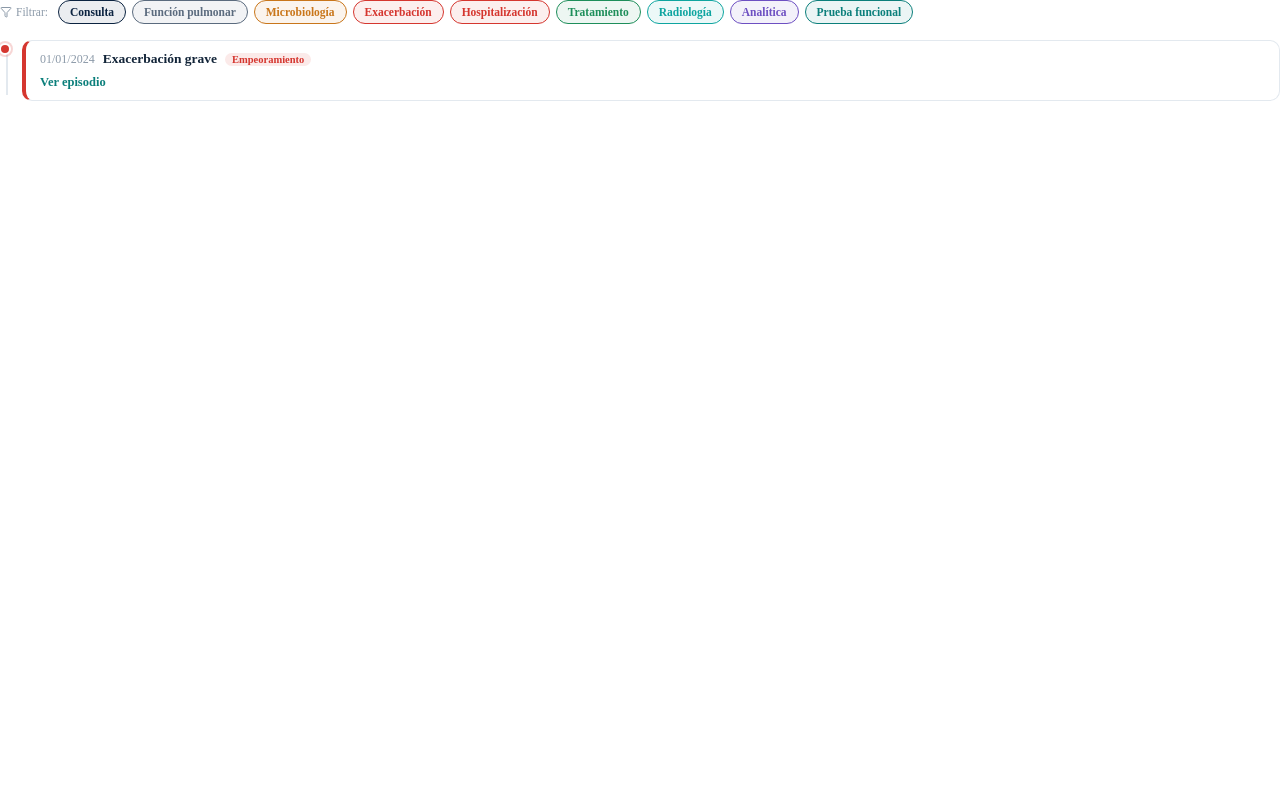
Test: TimelineTab › tratamiento vinculado sin fecha de fin ni dose/schedule documentados: 'Inicio {fecha} · Continúa', nunca una duración inventada
This screenshot has width=1280, height=800.
Click the button "Ver episodio".
click(73, 82)  # box x1=40 y1=75 x2=106 y2=90
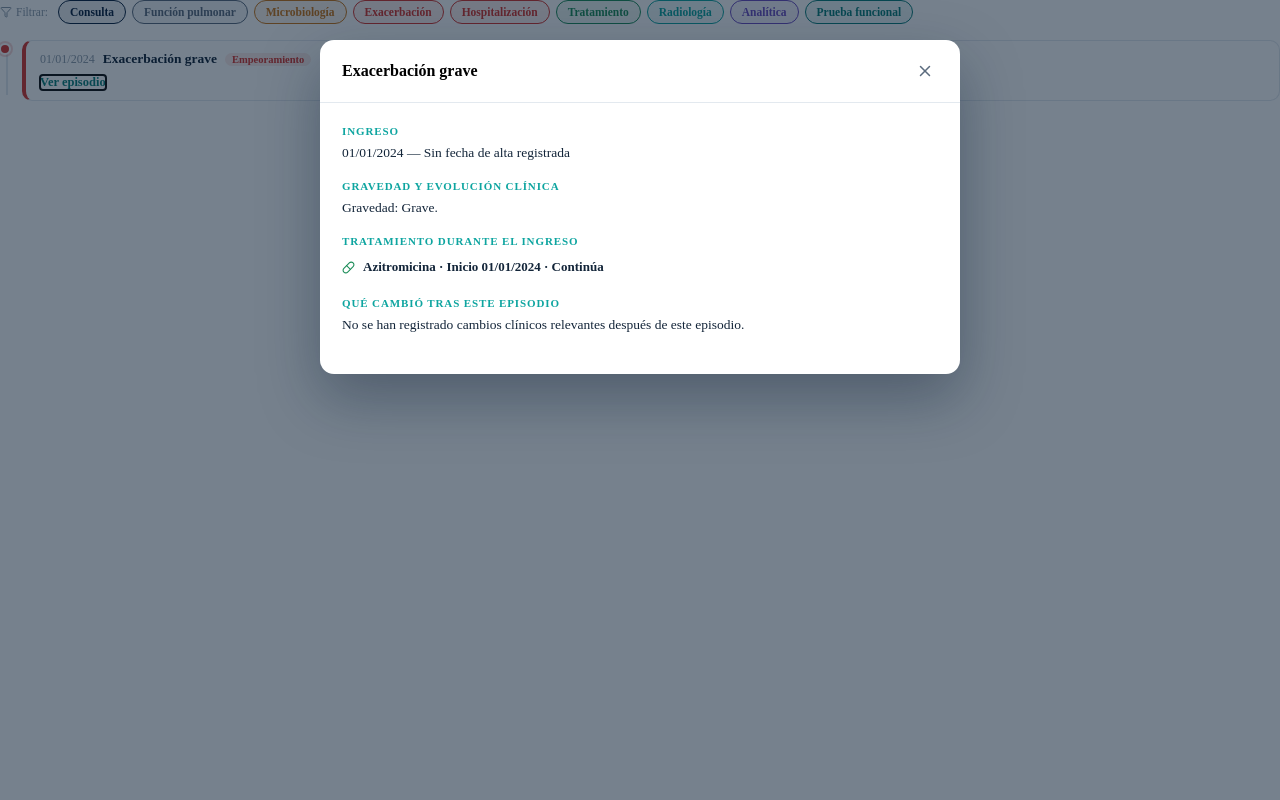
Expected: the text "Azitromicina · Inicio 01/01/2024 · Continúa" is shown, x1=363 y1=259 x2=604 y2=275
